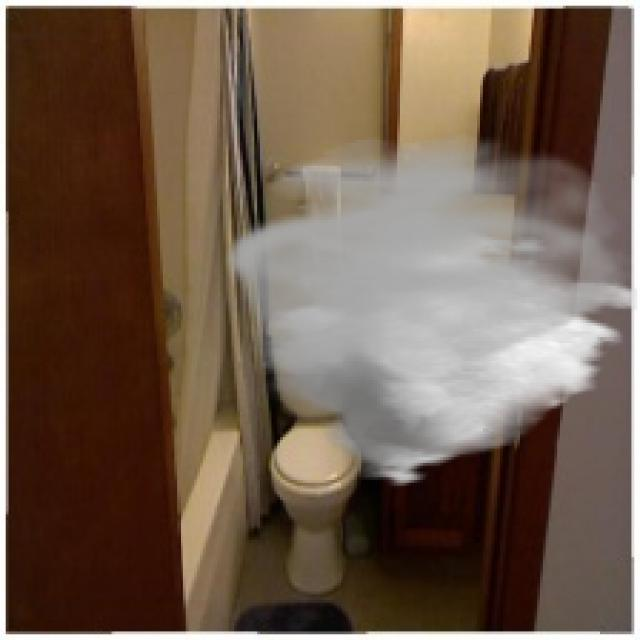smoke: (220, 134, 637, 489)
